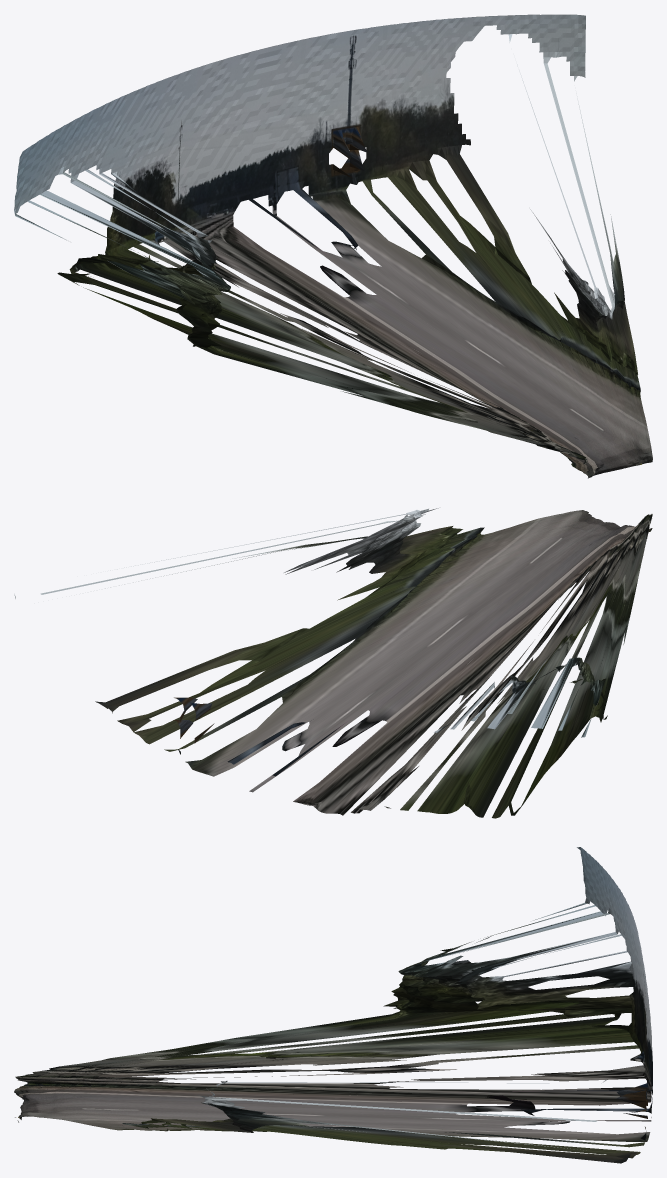
3 renders of one model, top to bottom at view 1: azimuth 30°, elevation 25°; view 2: azimuth 150°, elevation 25°; view 3: azimuth 270°, elevation 25°, orthographic. The views are drawn at different scales.
Visible parts, largest first — view 1: defaultobject; view 2: defaultobject; view 3: defaultobject.
Boxes of the visible parts, x1,y1,x2,y2 form: defaultobject: (14,14,652,478); defaultobject: (14,508,652,818); defaultobject: (14,847,652,1163).
Bounding box in the file's own units: 40.95 × 12.46 × 44.58.
Materials: 1 (1 with a texture image).
